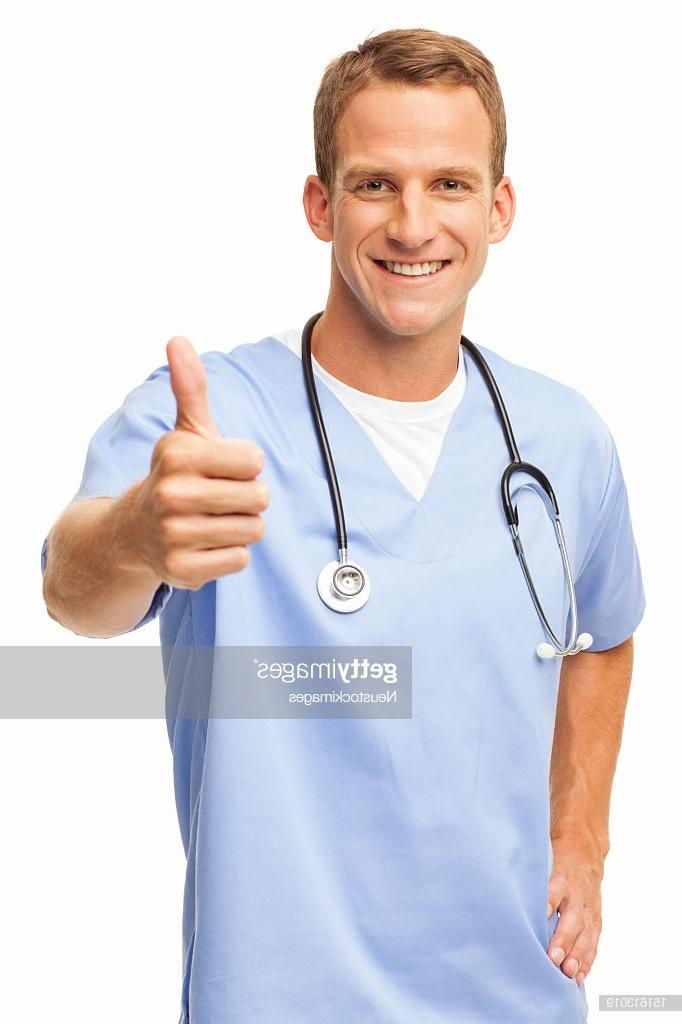thumbsup: (151, 335, 272, 587)
